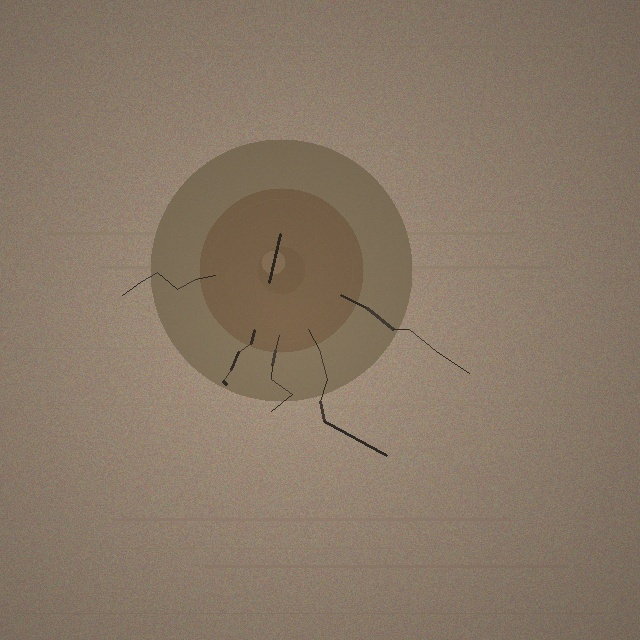crack: (150, 139, 412, 401)
